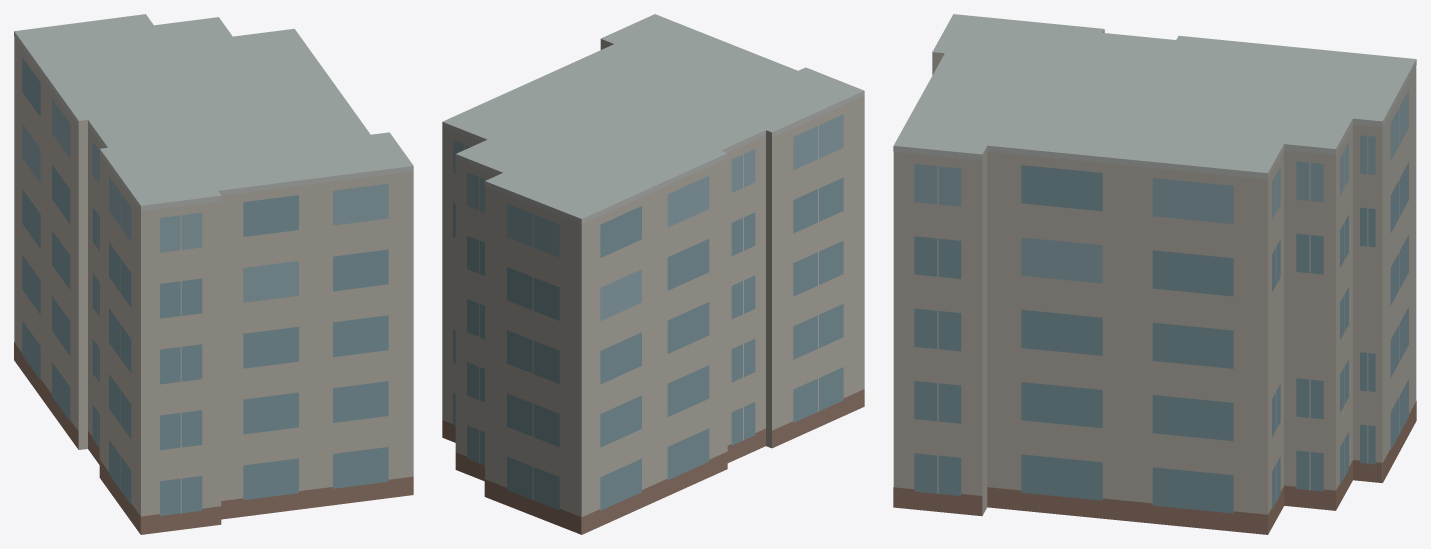
File: survey-upis-32760044.glb
The picture shows the model from 3 angles, left to right: view 1: azimuth 30°, elevation 25°; view 2: azimuth 150°, elevation 25°; view 3: azimuth 270°, elevation 25°; orthographic projection. The views are drawn at different scales.
Visible parts, largest first — view 1: survey-upis-32760044.tmp; view 2: survey-upis-32760044.tmp; view 3: survey-upis-32760044.tmp.
Part boxes in pixels (bbox=[...]): survey-upis-32760044.tmp: bbox=[14, 14, 413, 534]; survey-upis-32760044.tmp: bbox=[442, 14, 864, 534]; survey-upis-32760044.tmp: bbox=[893, 14, 1416, 534].
Size of the model in its own units: 13.98 by 14.8 by 19.41.
